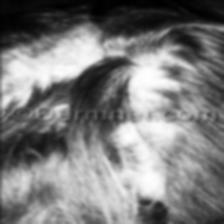Unclassified: (0, 53, 56, 95), (117, 54, 178, 84)
